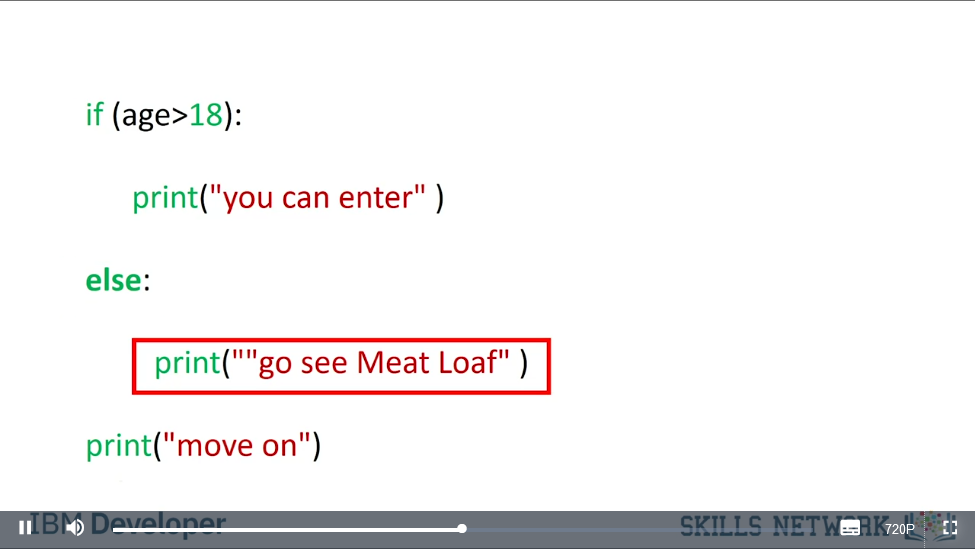code block: (81, 97, 563, 468)
